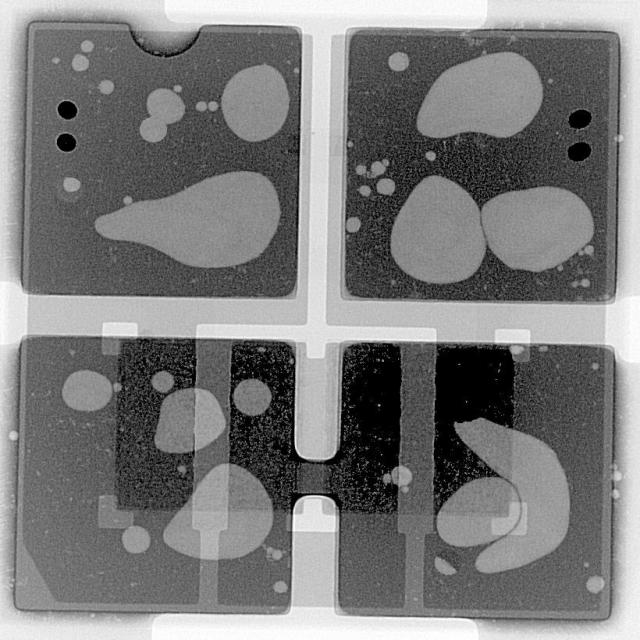component: (310, 345, 615, 621), (16, 338, 299, 614), (23, 23, 301, 297), (346, 29, 618, 302)
void: (94, 171, 281, 268), (457, 419, 571, 574), (417, 51, 544, 138), (163, 464, 273, 561), (391, 175, 487, 284), (482, 186, 595, 272), (437, 478, 522, 548), (221, 64, 290, 141), (154, 389, 194, 454), (61, 370, 112, 413), (194, 389, 226, 451), (232, 379, 272, 417), (147, 88, 185, 124), (98, 496, 133, 530), (121, 527, 151, 555), (382, 466, 413, 493), (139, 116, 167, 142), (150, 371, 175, 394), (389, 51, 410, 71), (435, 557, 457, 576), (587, 577, 606, 595), (376, 178, 396, 195), (263, 547, 284, 562), (71, 53, 88, 71), (62, 177, 80, 193), (371, 161, 387, 177), (346, 216, 361, 233), (98, 79, 114, 94), (272, 582, 289, 595), (80, 39, 94, 52), (358, 185, 372, 196), (355, 164, 367, 175), (195, 101, 207, 111), (425, 151, 437, 161), (208, 101, 219, 111), (581, 279, 592, 288), (123, 195, 132, 205), (172, 84, 182, 92), (51, 56, 59, 64), (592, 363, 600, 370)
